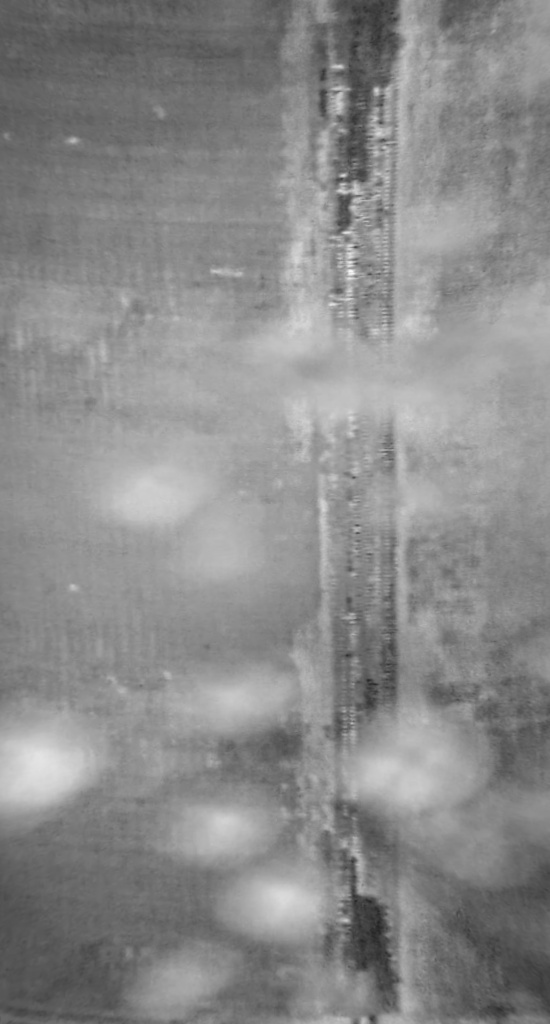splice: (316, 1, 413, 1024)
